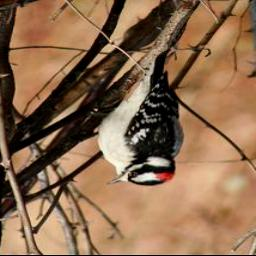Woodpecker: (91, 49, 183, 186)
